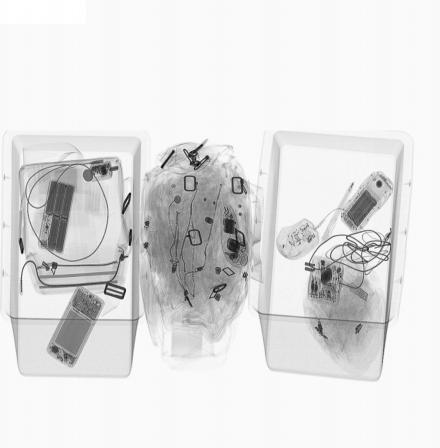Powerbank: (339, 171, 395, 234), (37, 180, 76, 256)
